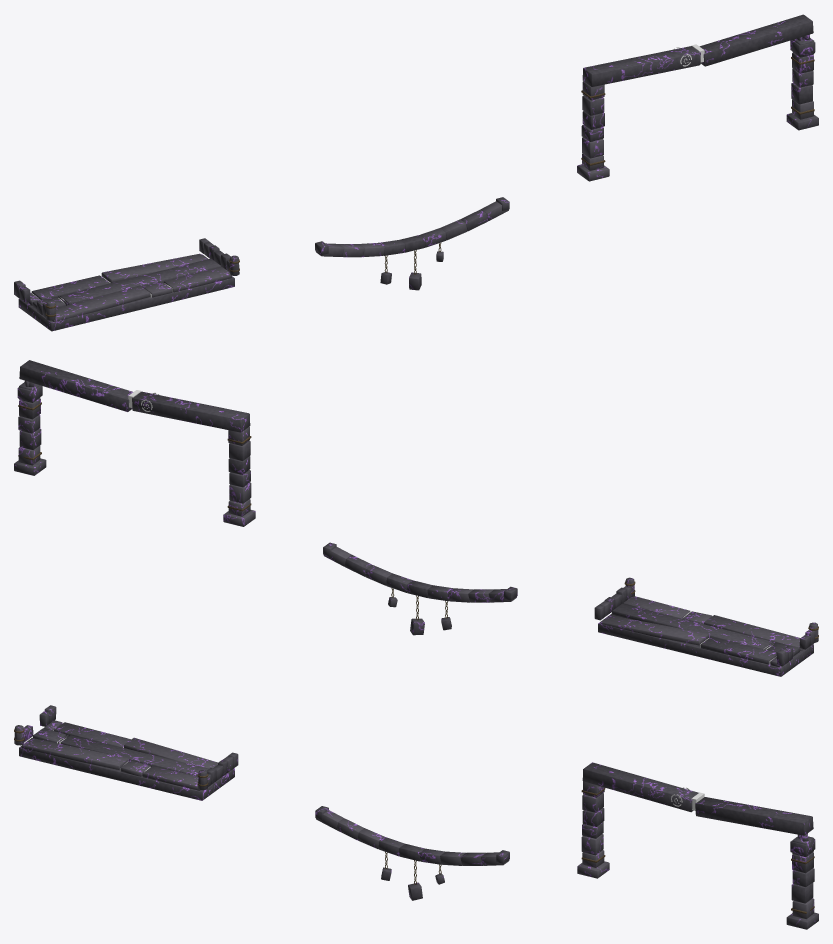
File: OriginBridge.fbx
3 renders of one model, top to bottom at view 1: azimuth 30°, elevation 25°; view 2: azimuth 150°, elevation 25°; view 3: azimuth 330°, elevation 25°, orthographic.
Parts seen in each view (by area): view 1: OriginDeck, OriginGate, OriginSupport; view 2: OriginDeck, OriginGate, OriginSupport; view 3: OriginDeck, OriginGate, OriginSupport.
Part boxes in pixels (left/top/right/bottom): OriginDeck: left=14, top=238, right=239, bottom=331; OriginGate: left=577, top=14, right=818, bottom=181; OriginSupport: left=315, top=197, right=509, bottom=290; OriginDeck: left=594, top=577, right=818, bottom=676; OriginGate: left=14, top=360, right=255, bottom=526; OriginSupport: left=323, top=542, right=517, bottom=635; OriginDeck: left=14, top=705, right=238, bottom=800; OriginGate: left=577, top=762, right=818, bottom=929; OriginSupport: left=315, top=806, right=509, bottom=900.
Size of the model in its own units: 164 by 35.16 by 13.37.
2 materials, 1 textured.
